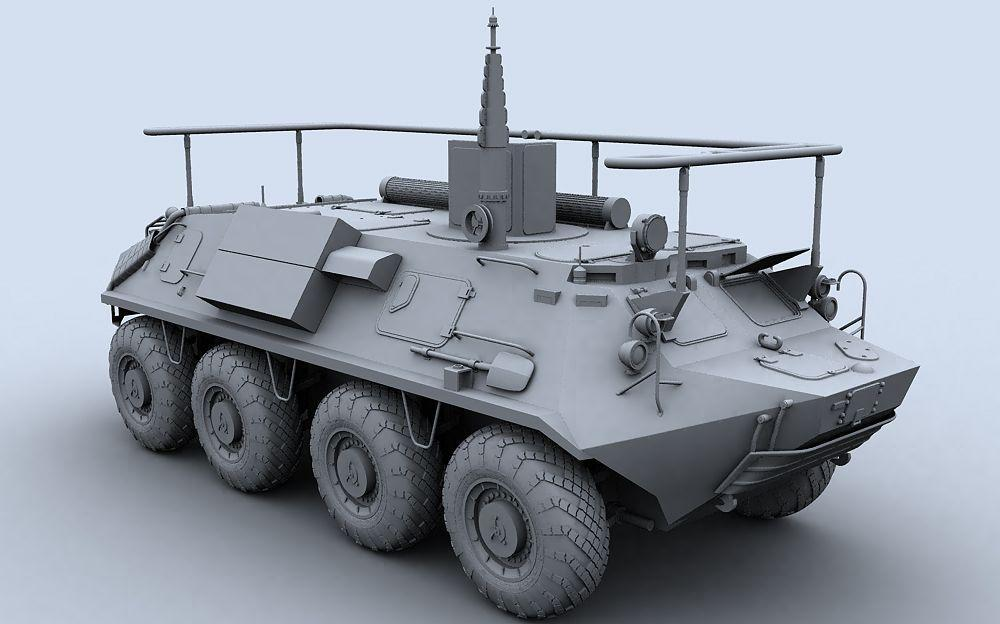MIL_IFV: (98, 9, 921, 621)
